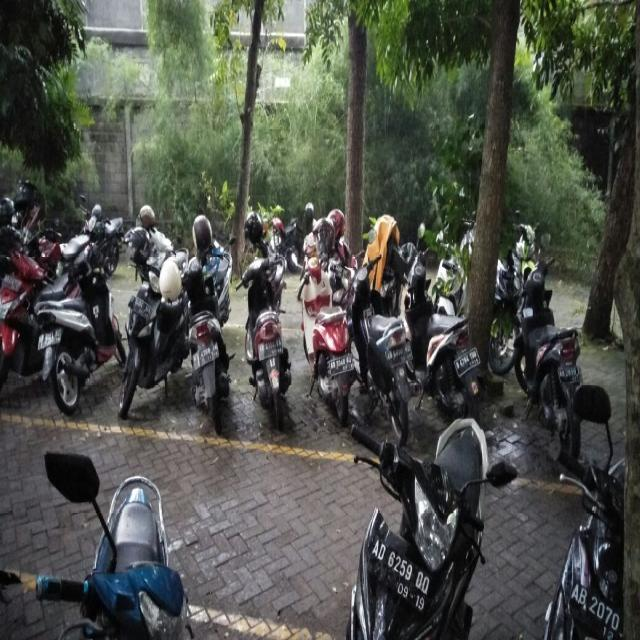plate: (368, 536, 430, 612), (568, 580, 622, 639), (192, 344, 220, 368), (256, 337, 282, 359), (453, 346, 479, 368), (330, 352, 354, 374), (385, 343, 413, 359)
